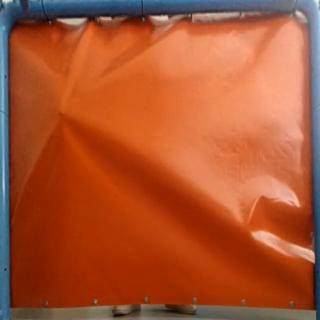Hit-hRxx: (54, 106, 72, 120)
